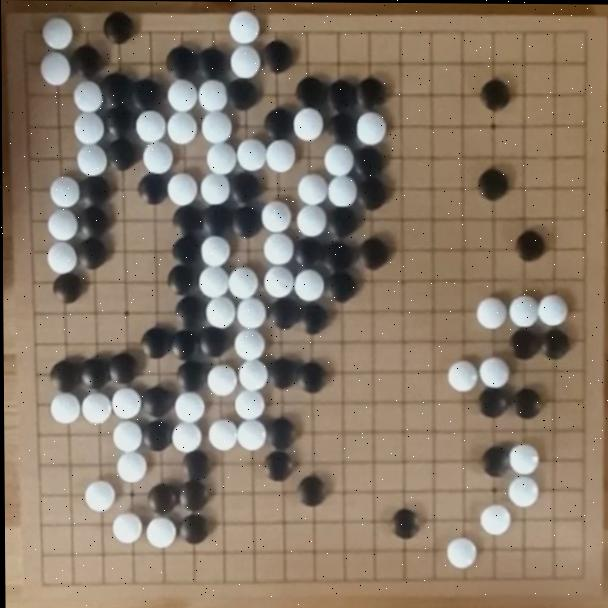corners: (568, 14, 608, 52), (564, 562, 604, 595), (28, 565, 64, 600), (11, 21, 44, 51)
